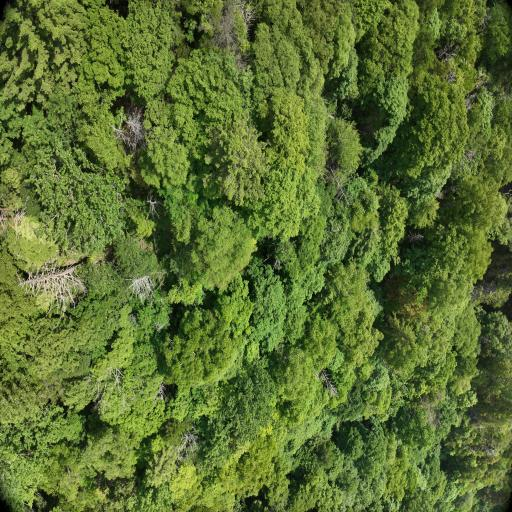dead-tree: (16, 252, 96, 312), (207, 0, 258, 63), (101, 103, 146, 160), (324, 162, 351, 210), (124, 268, 158, 305), (176, 422, 206, 463), (0, 198, 30, 234), (319, 369, 342, 405), (464, 80, 483, 112), (436, 39, 458, 62), (398, 226, 425, 244), (146, 188, 161, 220), (439, 186, 456, 208), (478, 13, 491, 35), (461, 146, 476, 164), (446, 68, 457, 88)
